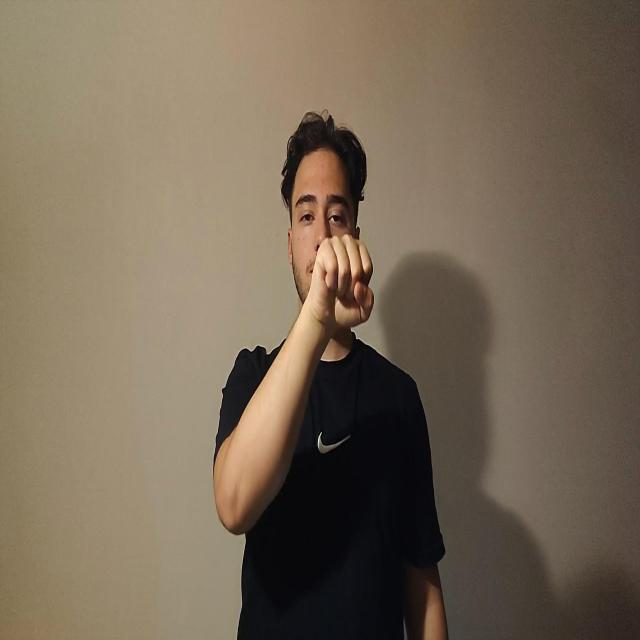yes: (307, 233, 375, 333)
